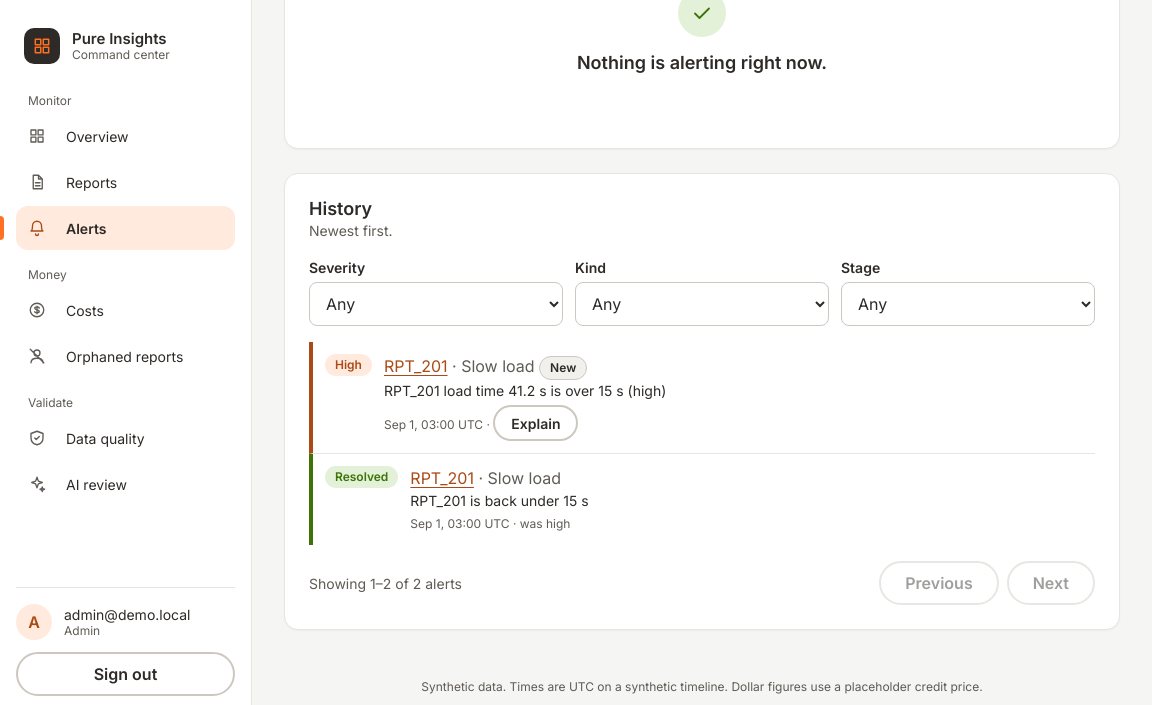
Test: Explain this alert › only admins see why a suggestion was held
The image size is (1152, 705).
(page scrolled)
Click the button with aria-label "Explain alert 1" at x=536, y=423, box [493,405,578,441]
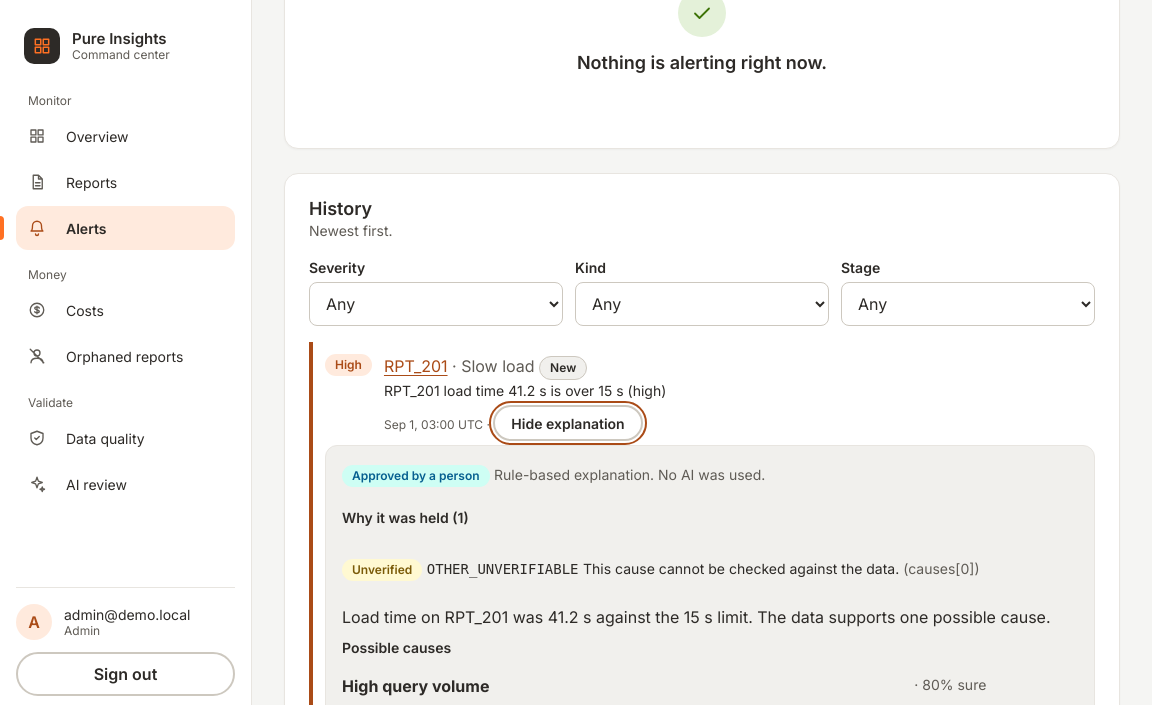
Expected: the heading "Why it was held (1)" is shown, [342,509,469,526]
Expected: the text "OTHER_UNVERIFIABLE" is shown, [427,561,578,577]
Expected: the text "Unverified" is shown, [342,559,422,581]
